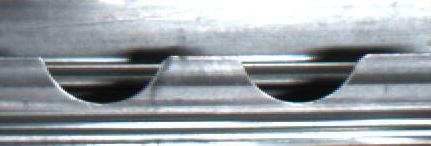twou: (38, 48, 360, 114)
